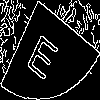E: (25, 25, 64, 82)
